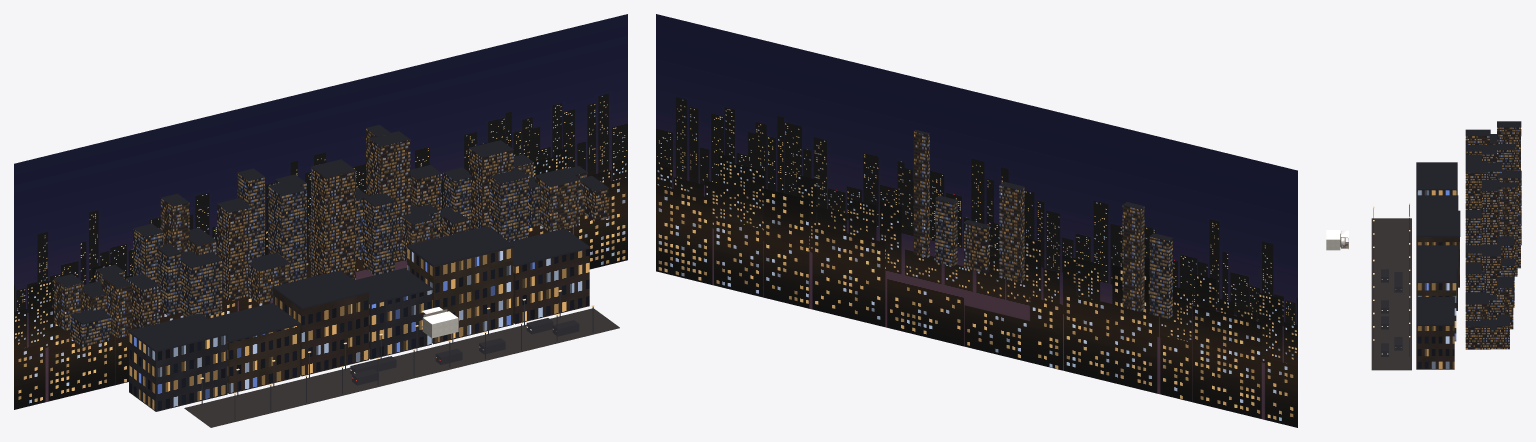
File: apartment_balcony.glb
The picture shows the model from 3 angles, left to right: view 1: azimuth 30°, elevation 25°; view 2: azimuth 150°, elevation 25°; view 3: azimuth 270°, elevation 25°; orthographic projection. The views are drawn at different scales.
Parts seen in each view (by area): view 1: city_sky, city_street, city_block_1, city_block_5, city_block_3, city_tower_0_12, city_block_0, city_block_4, city_block_2, city_tower_1_23, city_tower_1_25, city_tower_1_26 (+24 smaller); view 2: city_sky, city_tower_2_38, city_tower_2_41, city_tower_2_35, city_tower_2_42, city_tower_2_36, city_tower_2_37; view 3: city_street, city_block_0, city_block_1_roof, city_block_5_roof, city_block_3_roof, city_tower_2_35, city_block_0_roof, city_tower_1_23, city_block_1, city_tower_0_12, city_block_4_roof, city_tower_1_20 (+20 smaller).
Part boxes in pixels (<box>): city_sky: <box>14,14,627,409</box>; city_street: <box>184,308,619,427</box>; city_block_1: <box>407,247,513,344</box>; city_block_5: <box>129,333,227,411</box>; city_block_3: <box>273,289,368,376</box>; city_tower_0_12: <box>311,167,355,280</box>; city_block_0: <box>513,249,589,324</box>; city_block_4: <box>227,325,300,393</box>; city_block_2: <box>369,290,431,359</box>; city_tower_1_23: <box>369,139,410,260</box>; city_tower_1_25: <box>268,186,306,281</box>; city_tower_1_26: <box>217,204,251,300</box>; city_sky: <box>656,14,1297,427</box>; city_tower_2_38: <box>999,185,1024,282</box>; city_tower_2_41: <box>1122,205,1144,311</box>; city_tower_2_35: <box>913,131,929,257</box>; city_tower_2_42: <box>1149,237,1172,318</box>; city_tower_2_36: <box>935,199,957,266</box>; city_tower_2_37: <box>964,222,989,273</box>; city_street: <box>1371,218,1411,370</box>; city_block_0: <box>1416,326,1454,369</box>; city_block_1_roof: <box>1416,251,1456,282</box>; city_block_5_roof: <box>1416,162,1457,190</box>; city_block_3_roof: <box>1416,210,1460,236</box>; city_tower_2_35: <box>1498,187,1517,276</box>; city_block_0_roof: <box>1416,297,1454,325</box>; city_tower_1_23: <box>1481,191,1498,244</box>; city_block_1: <box>1416,282,1456,341</box>; city_tower_0_12: <box>1465,172,1487,209</box>; city_block_4_roof: <box>1416,195,1458,210</box>; city_tower_1_20: <box>1481,256,1500,294</box>.
Size of the model in its own units: 120 by 46 by 43.59.
26 materials, 10 textured.
